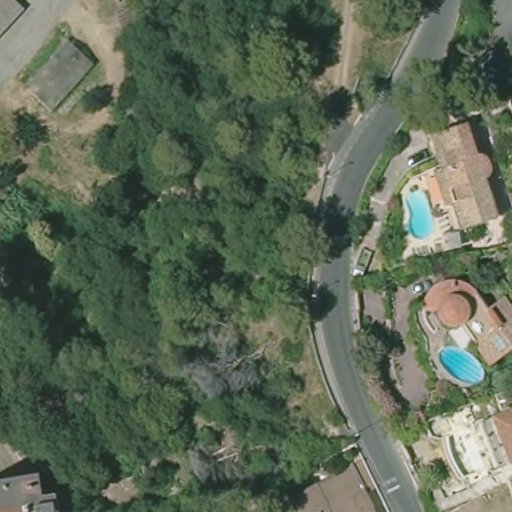pool: (433, 343, 490, 387), (399, 186, 442, 241)
